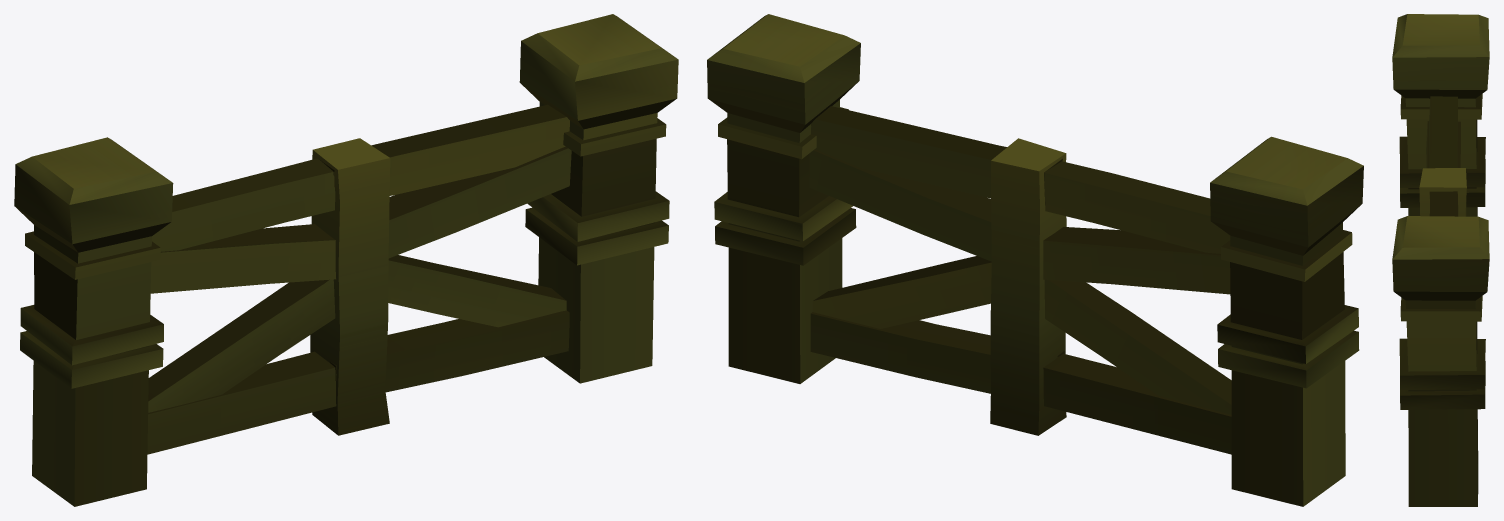
Rendered from Fence_Small_0_1.fbx.
3 views of the same model, side by side, from view 1: azimuth 30°, elevation 25°; view 2: azimuth 150°, elevation 25°; view 3: azimuth 270°, elevation 25° (orthographic). The views are drawn at different scales.
Visible parts, largest first — view 1: Wood_Fence_Medium_0_1; view 2: Wood_Fence_Medium_0_1; view 3: Wood_Fence_Medium_0_1.
Boxes of the visible parts, bbox=[...] form: Wood_Fence_Medium_0_1: bbox=[14, 14, 678, 506]; Wood_Fence_Medium_0_1: bbox=[707, 14, 1363, 506]; Wood_Fence_Medium_0_1: bbox=[1392, 14, 1489, 506].
Size of the model in its own units: 238 by 120 by 40.37.
